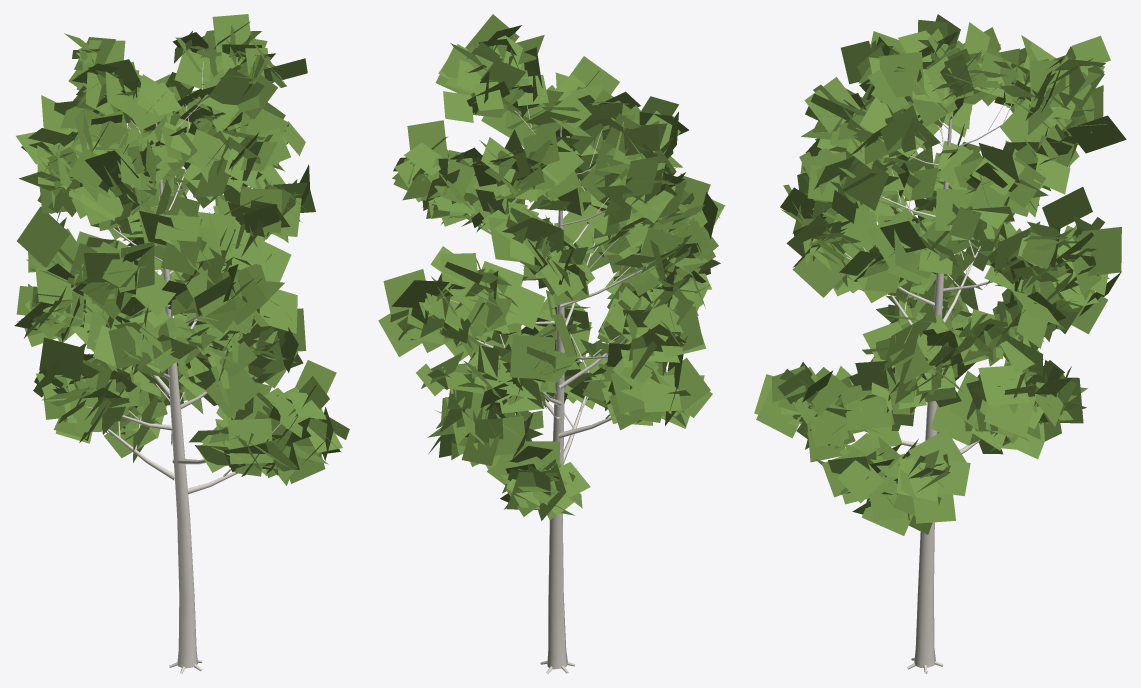
Rendered from birch-3-lod0.glb.
The picture shows the model from 3 angles, left to right: view 1: azimuth 30°, elevation 25°; view 2: azimuth 150°, elevation 25°; view 3: azimuth 270°, elevation 25°; orthographic projection. The views are drawn at different scales.
Visible parts, largest first — view 1: birch-3-lod0-foliage, birch-3-lod0-bark; view 2: birch-3-lod0-foliage, birch-3-lod0-bark; view 3: birch-3-lod0-foliage, birch-3-lod0-bark.
Part boxes in pixels (x1,y1,x2,y2): birch-3-lod0-foliage: (14, 14, 349, 485); birch-3-lod0-bark: (51, 50, 316, 673); birch-3-lod0-foliage: (378, 14, 725, 521); birch-3-lod0-bark: (442, 105, 689, 673); birch-3-lod0-foliage: (754, 14, 1126, 535); birch-3-lod0-bark: (844, 71, 1083, 673).
Bounding box in the file's own units: 16.3 × 31.97 × 16.7.
